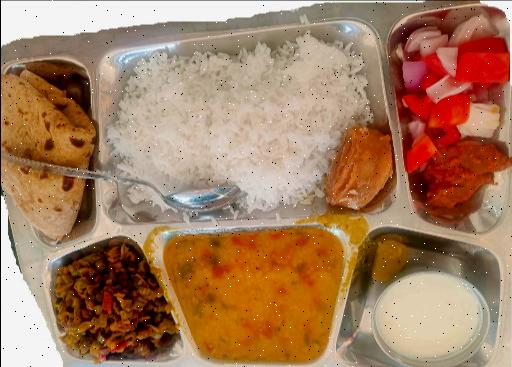Curd: (361, 270, 497, 367)
Dal: (176, 235, 342, 356)
Pickle: (418, 138, 507, 207)
Rice: (102, 43, 356, 217)
Roti: (0, 60, 89, 234)
Salad: (406, 8, 510, 137)
Sweet: (320, 130, 391, 204)
Vegetable: (48, 244, 168, 367)
